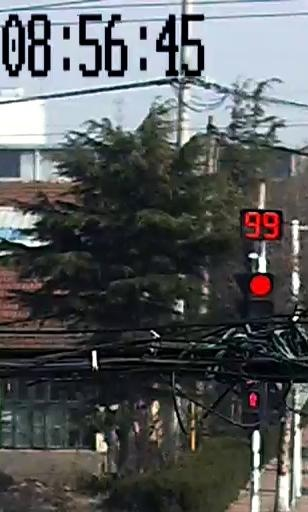red: (249, 271, 270, 298)
redpeople: (246, 387, 264, 411)
redtime: (242, 212, 283, 243)
